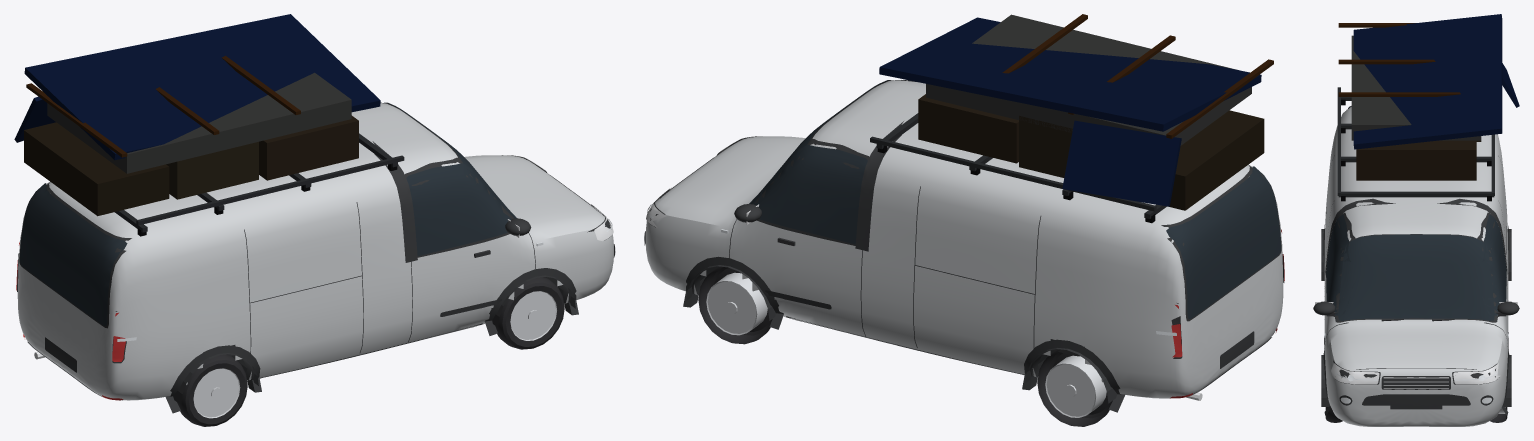
File: pro_charge.glb
3 renders of one model, left to right at view 1: azimuth 30°, elevation 25°; view 2: azimuth 150°, elevation 25°; view 3: azimuth 270°, elevation 25°, orthographic. The views are drawn at different scales.
Visible parts, largest first — view 1: Body, Tarp, Mattress, RearGlass, LoadBox2, Glass-1, LoadBox0, WheelRR, WheelFR, LoadBox1, RackRail-1, ArchTrim-1.001 (+7 smaller); view 2: Body, Tarp, RearGlass, Mattress, TarpFlap, Glass1, LoadBox2, LoadBox0, WheelFL, WheelRL, LoadBox1, RackRail1 (+7 smaller); view 3: Body, Tarp, Windshield, LoadBox0, Mattress, Glass1, Glass-1, Intake, HeadReflector, RackBar0.3, Grille, WsFrame (+14 smaller).
Boxes of the visible parts, x1=… form: Body: x1=17, y1=103, x2=613, y2=400; Tarp: x1=24, y1=14, x2=380, y2=160; Mattress: x1=47, y1=72, x2=351, y2=173; RearGlass: x1=19, y1=183, x2=127, y2=325; LoadBox2: x1=24, y1=122, x2=169, y2=216; Glass-1: x1=406, y1=163, x2=516, y2=256; LoadBox0: x1=259, y1=115, x2=358, y2=180; WheelRR: x1=177, y1=354, x2=247, y2=426; WheelFR: x1=495, y1=277, x2=564, y2=349; LoadBox1: x1=166, y1=141, x2=258, y2=199; RackRail-1: x1=136, y1=155, x2=404, y2=225; ArchTrim-1.001: x1=165, y1=345, x2=261, y2=413; Body: x1=645, y1=80, x2=1283, y2=398; Tarp: x1=879, y1=17, x2=1261, y2=131; RearGlass: x1=1166, y1=166, x2=1281, y2=318; Mattress: x1=926, y1=14, x2=1251, y2=145; TarpFlap: x1=1062, y1=120, x2=1181, y2=206; Glass1: x1=750, y1=145, x2=867, y2=244; LoadBox2: x1=1169, y1=110, x2=1264, y2=210; LoadBox0: x1=918, y1=94, x2=1018, y2=163; WheelFL: x1=698, y1=266, x2=772, y2=344; WheelRL: x1=1037, y1=349, x2=1112, y2=426; LoadBox1: x1=1019, y1=115, x2=1072, y2=177; RackRail1: x1=870, y1=136, x2=1156, y2=211; Body: x1=1324, y1=106, x2=1508, y2=426; Tarp: x1=1353, y1=14, x2=1502, y2=149; Windshield: x1=1338, y1=234, x2=1494, y2=320; LoadBox0: x1=1356, y1=140, x2=1476, y2=180; Mattress: x1=1351, y1=35, x2=1481, y2=140; Glass1: x1=1472, y1=214, x2=1506, y2=315; Glass-1: x1=1326, y1=214, x2=1357, y2=315; Intake: x1=1362, y1=394, x2=1470, y2=405; HeadReflector: x1=1331, y1=363, x2=1500, y2=384; RackBar0.3: x1=1338, y1=191, x2=1494, y2=197; Grille: x1=1381, y1=376, x2=1450, y2=389; WsFrame: x1=1335, y1=234, x2=1497, y2=322.
Size of the model in its own units: 5.02 by 2.83 by 2.15.
